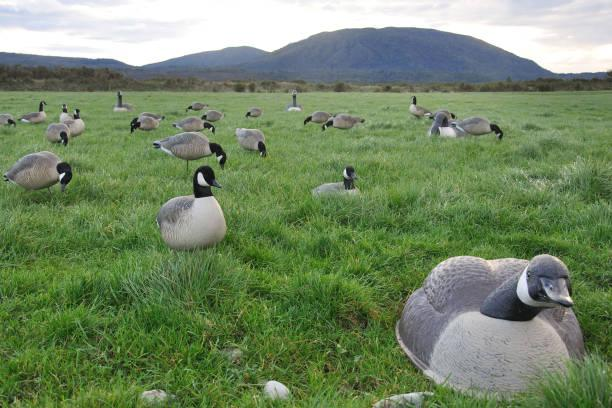Canadian-Goose: (404, 246, 585, 396), (160, 167, 227, 253), (7, 151, 74, 196), (154, 135, 229, 169), (311, 166, 367, 199), (459, 114, 503, 140), (321, 111, 369, 134), (427, 107, 456, 145), (235, 127, 269, 158), (172, 115, 213, 134), (129, 113, 165, 132), (22, 97, 47, 122), (45, 120, 69, 145), (70, 110, 90, 138), (283, 92, 307, 114), (405, 94, 427, 117), (111, 93, 135, 114), (304, 108, 329, 126), (183, 100, 208, 115), (56, 102, 71, 119), (203, 109, 225, 120), (1, 113, 15, 129), (247, 105, 261, 120)
